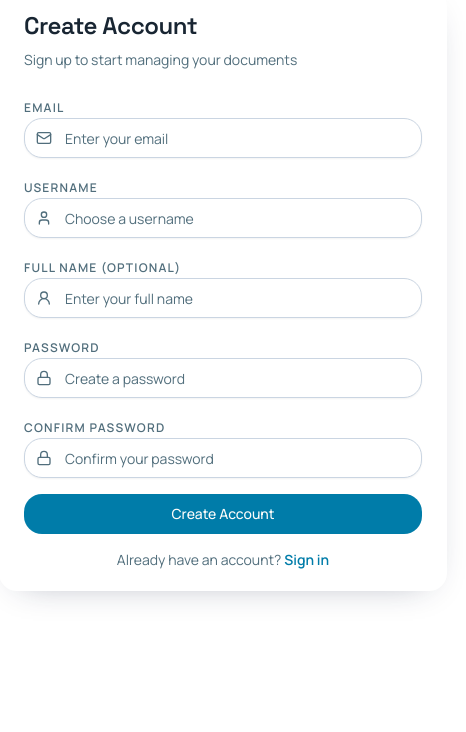
it: RegisterForm › validates password length
Step 1. Type "1234567" into the password field labelled "Password" → {"x": 223, "y": 378}, box [24,358,422,398]
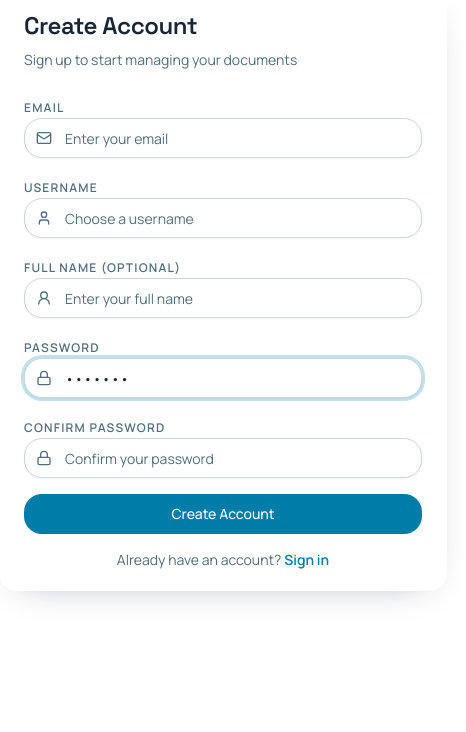
Step 2. Click the button "Create Account" → {"x": 223, "y": 514}, box [24,494,422,534]
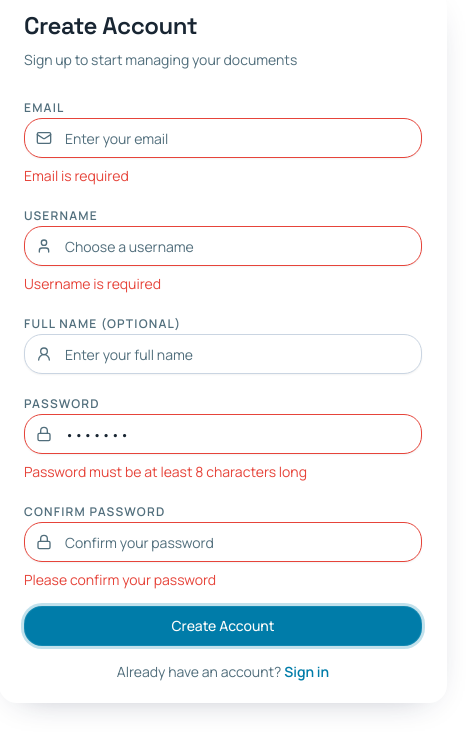
Now the text "Password must be at least 8 characters long" is shown, box [24,462,307,481]
